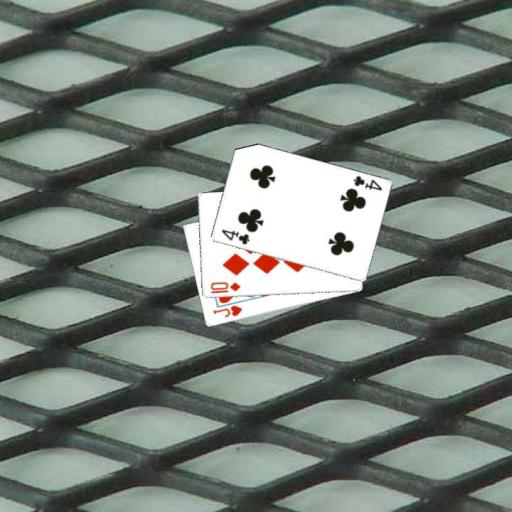10D: (207, 279, 242, 295)
4C: (218, 226, 251, 246), (350, 173, 383, 192)
JH: (210, 303, 243, 320)
